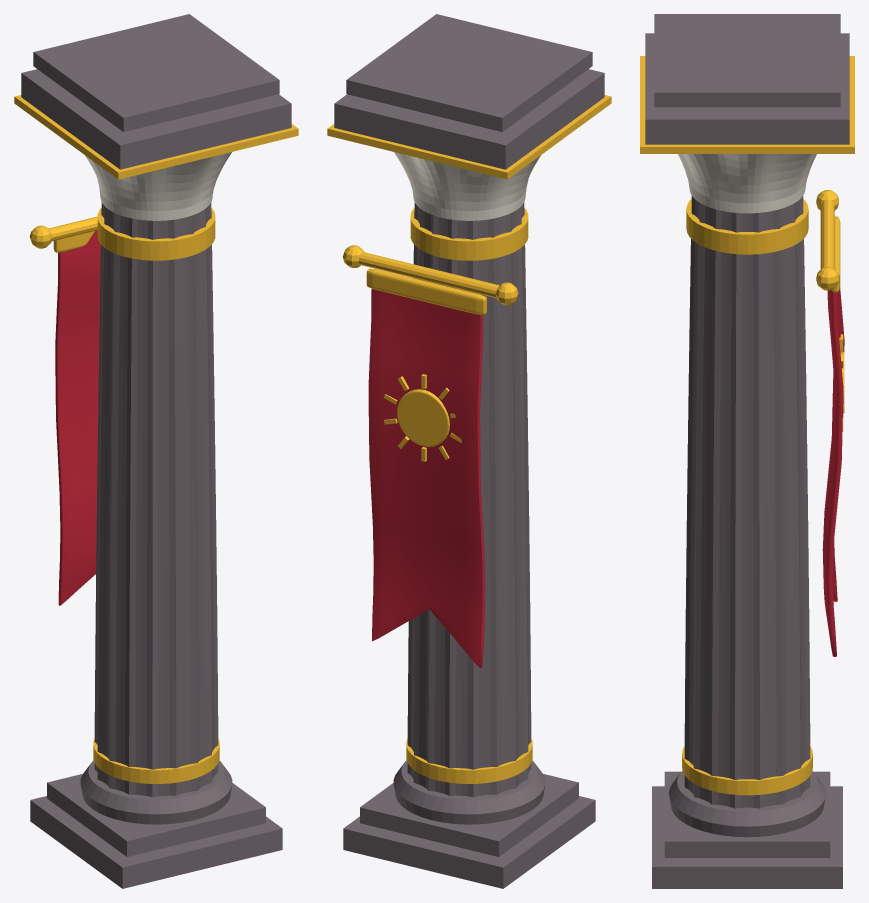
The model's file is SandColumn.obj.
3 views of the same model, side by side, from view 1: azimuth 30°, elevation 25°; view 2: azimuth 150°, elevation 25°; view 3: azimuth 270°, elevation 25° (orthographic). The views are drawn at different scales.
Parts seen in each view (by area): view 1: Stone, Cloth, Gold, Paint; view 2: Stone, Cloth, Gold, Paint; view 3: Stone, Gold, Paint, Cloth.
Boxes of the visible parts, left/top/right/bottom form: Stone: left=21, top=14, right=291, bottom=888; Cloth: left=55, top=230, right=100, bottom=605; Gold: left=14, top=95, right=298, bottom=783; Paint: left=85, top=152, right=231, bottom=220; Stone: left=334, top=14, right=604, bottom=888; Cloth: left=368, top=280, right=485, bottom=668; Gold: left=327, top=95, right=611, bottom=783; Paint: left=394, top=152, right=540, bottom=220; Stone: left=645, top=14, right=849, bottom=888; Gold: left=640, top=56, right=854, bottom=795; Paint: left=678, top=154, right=816, bottom=213; Cloth: left=822, top=288, right=844, bottom=656.
Bounding box in the file's own units: 6.83 × 27.89 × 6.83.
